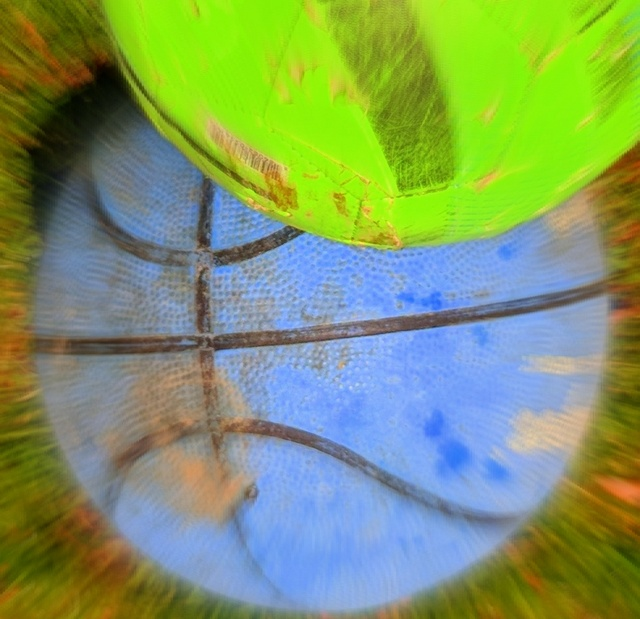ball: (33, 94, 612, 613)
